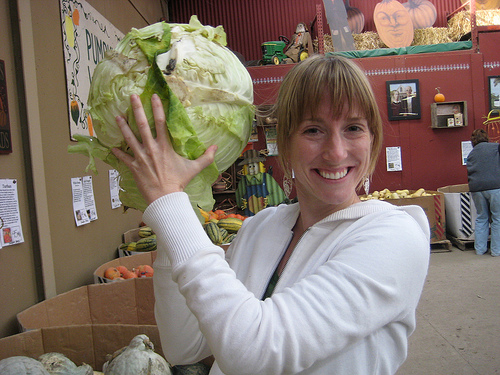cabbage: (87, 15, 255, 179)
